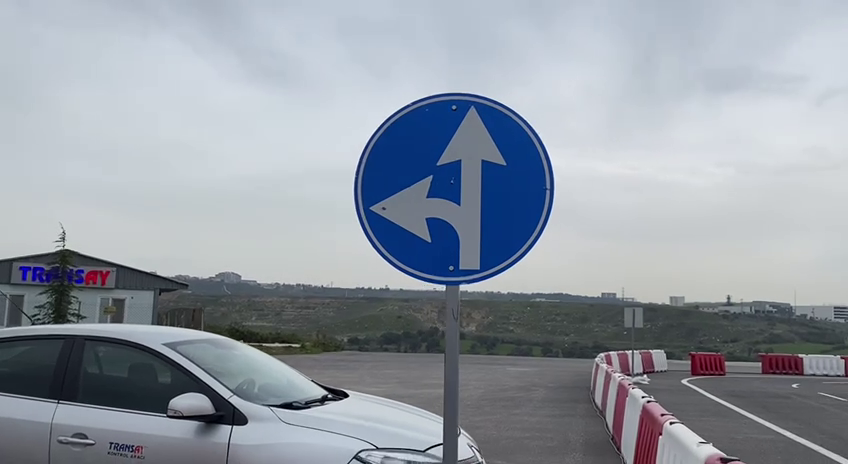forwardAndLeft: (349, 88, 559, 289)
